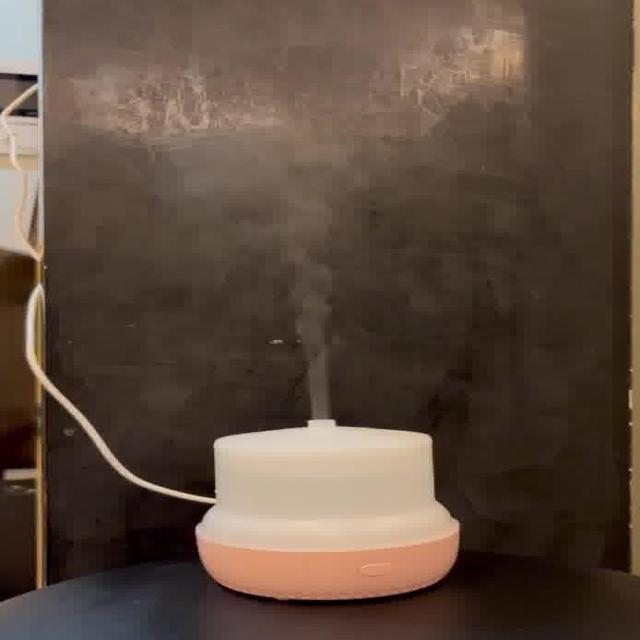fire: (200, 100, 347, 413)
